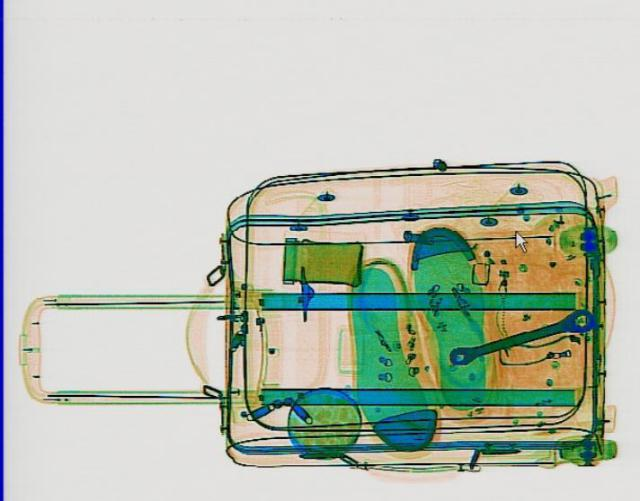Wrench: (443, 304, 599, 370)
